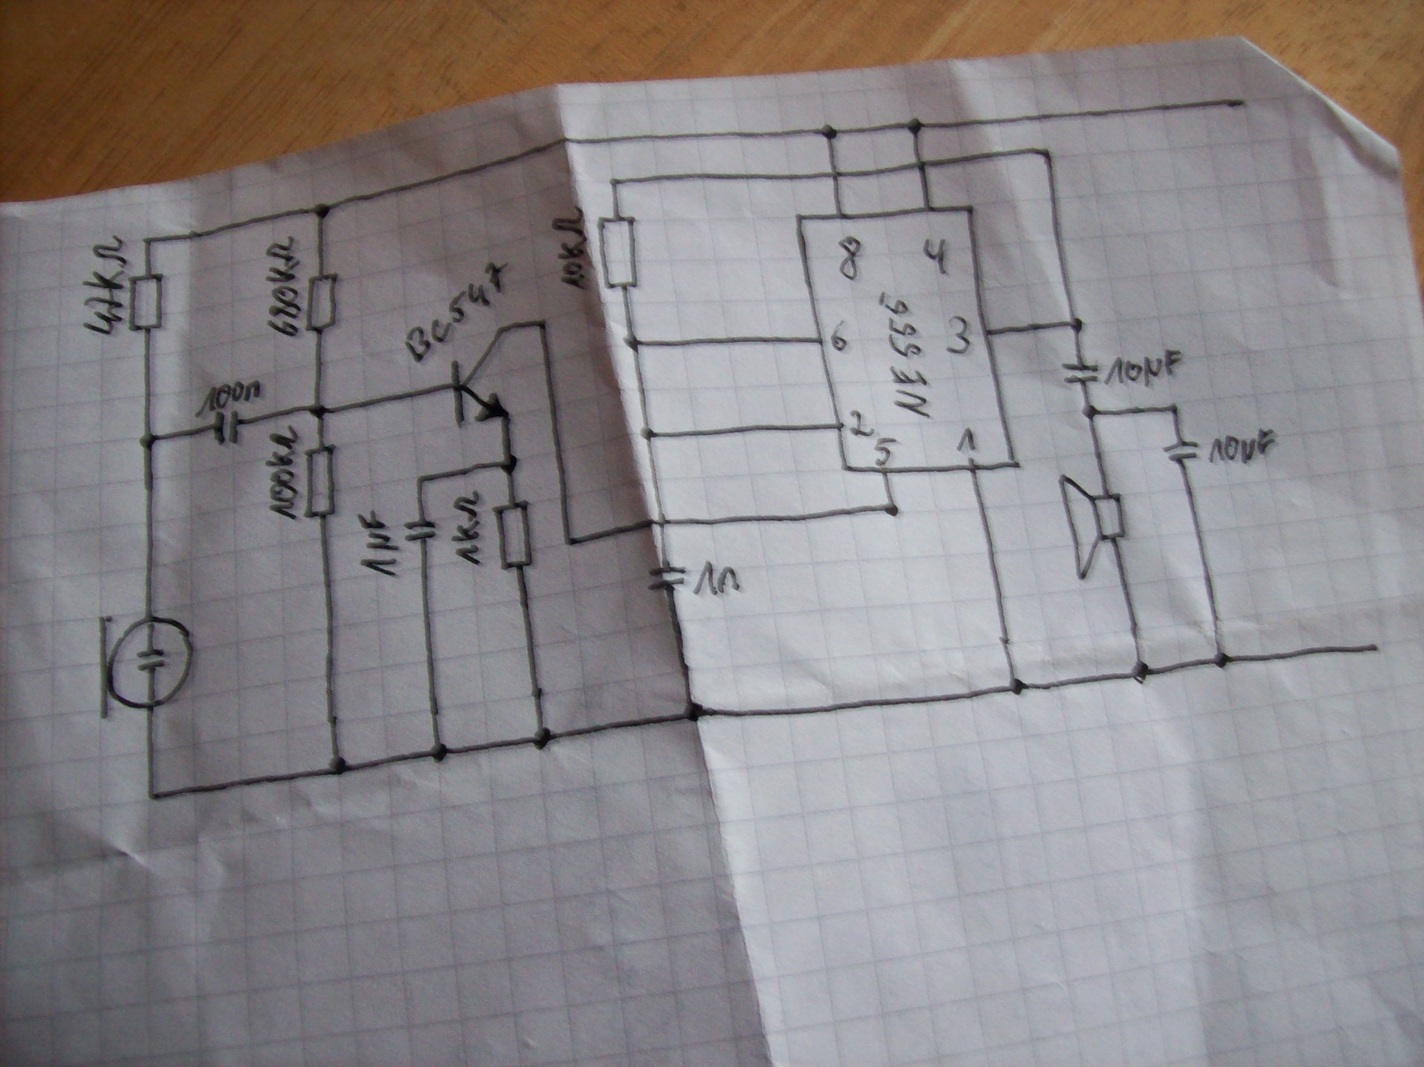capacitor.unpolarized: (646, 563, 689, 594), (212, 410, 243, 447), (1060, 360, 1100, 387), (1161, 438, 1200, 465), (402, 517, 439, 544)
crossover: (652, 512, 674, 532), (910, 154, 933, 173), (826, 165, 846, 182)
integrated_cricuit.ne555: (793, 202, 1024, 474)
junction: (681, 697, 706, 725), (530, 726, 555, 753), (497, 449, 521, 477), (1129, 658, 1152, 685), (306, 399, 331, 423), (326, 754, 350, 778), (622, 331, 644, 354), (1006, 676, 1029, 699), (881, 499, 903, 521), (904, 115, 928, 137), (137, 432, 161, 452), (311, 200, 333, 222), (429, 742, 449, 766), (818, 121, 839, 141), (1212, 650, 1231, 671), (637, 423, 657, 443), (145, 787, 162, 808), (1080, 403, 1101, 421), (559, 530, 578, 549), (1064, 315, 1085, 333), (533, 314, 552, 332), (1035, 143, 1055, 160), (606, 173, 624, 191), (1166, 400, 1184, 417), (412, 471, 428, 489), (139, 232, 153, 247)
microphone: (96, 613, 195, 720)
resistor: (594, 211, 644, 294), (490, 497, 537, 573), (303, 442, 339, 522), (303, 271, 339, 336), (127, 272, 165, 334)
speaker: (1057, 472, 1128, 582)
terminal: (1361, 635, 1389, 659), (1229, 93, 1254, 114)
text: (403, 258, 509, 364), (876, 289, 936, 419), (80, 234, 128, 338), (264, 230, 303, 341), (549, 204, 593, 295), (262, 423, 300, 523), (448, 489, 488, 570), (356, 507, 400, 579), (1102, 347, 1183, 387), (1207, 427, 1278, 466), (194, 379, 263, 417), (691, 558, 742, 599), (835, 233, 865, 282), (943, 312, 972, 358), (920, 235, 951, 277), (845, 408, 876, 439), (872, 434, 899, 466), (829, 317, 851, 353), (956, 424, 977, 456)
transistor: (449, 325, 516, 427)
